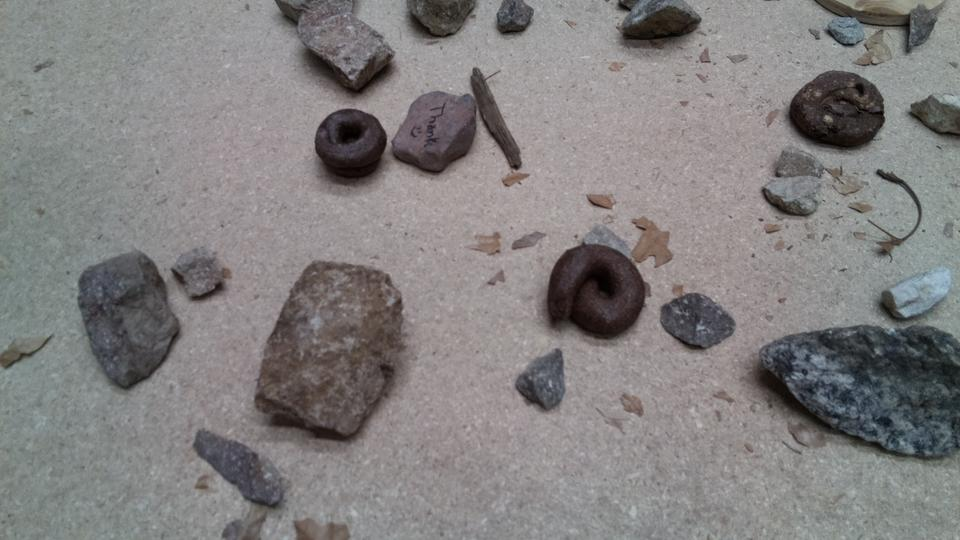poop: (545, 240, 649, 341), (787, 67, 890, 152), (313, 105, 388, 181)
